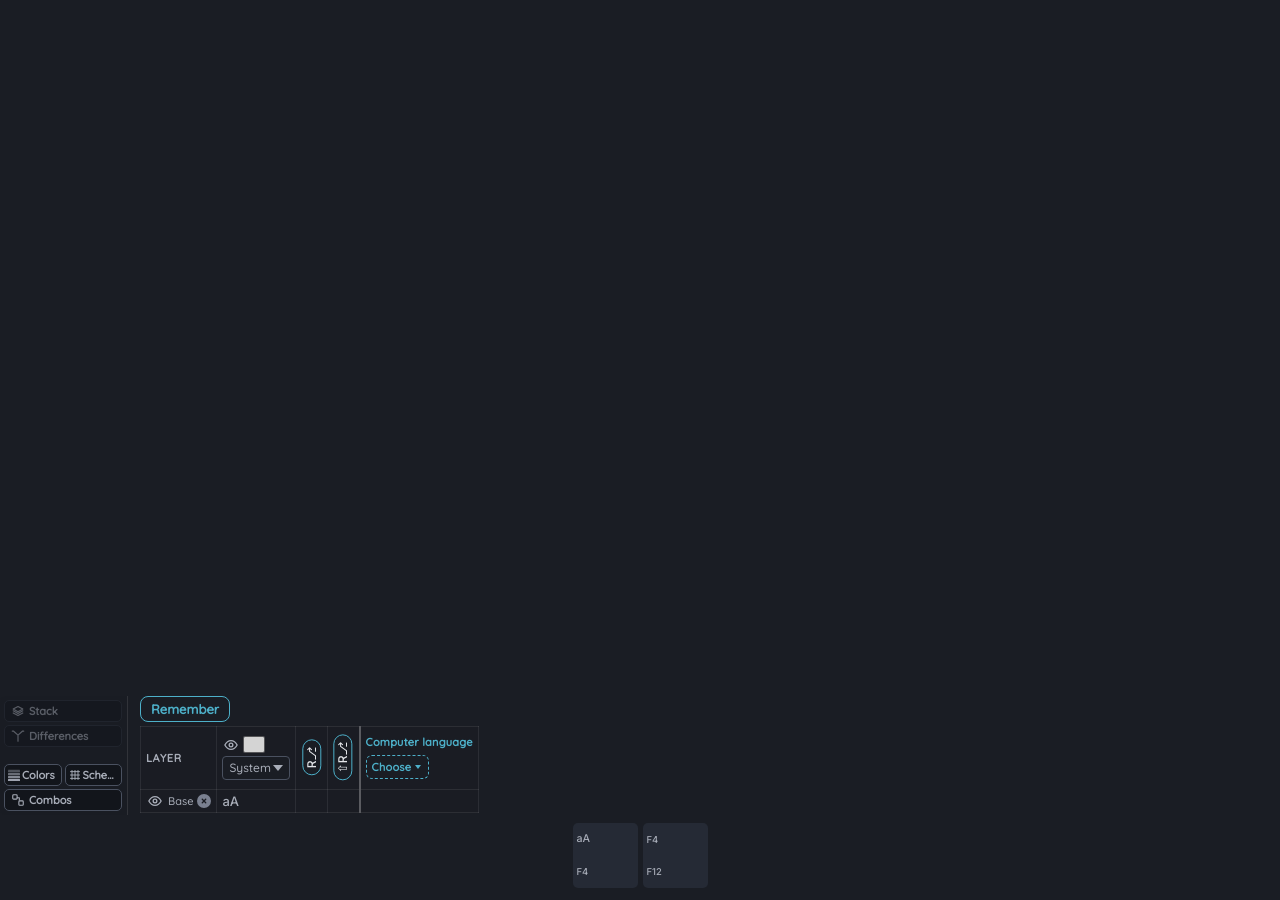
Keyboard layers › removes the last layer and keeps an active remaining layer
Hover over the element with class "host-legend-strip" at (239, 756), box [0,696,479,815]
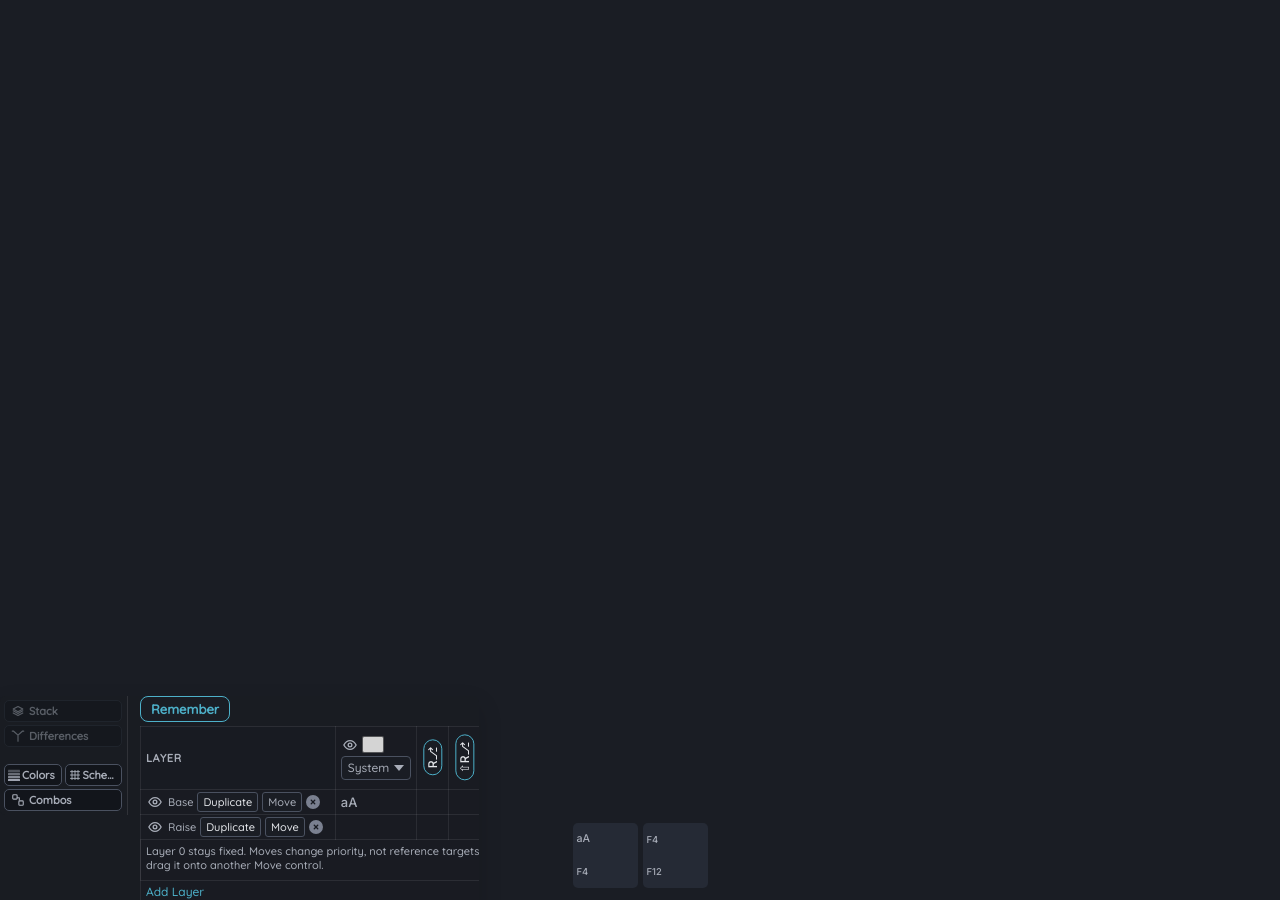
Click the 2nd button with class "delete". click: (316, 827)
box: [309,820,323,834]
(page scrolled)
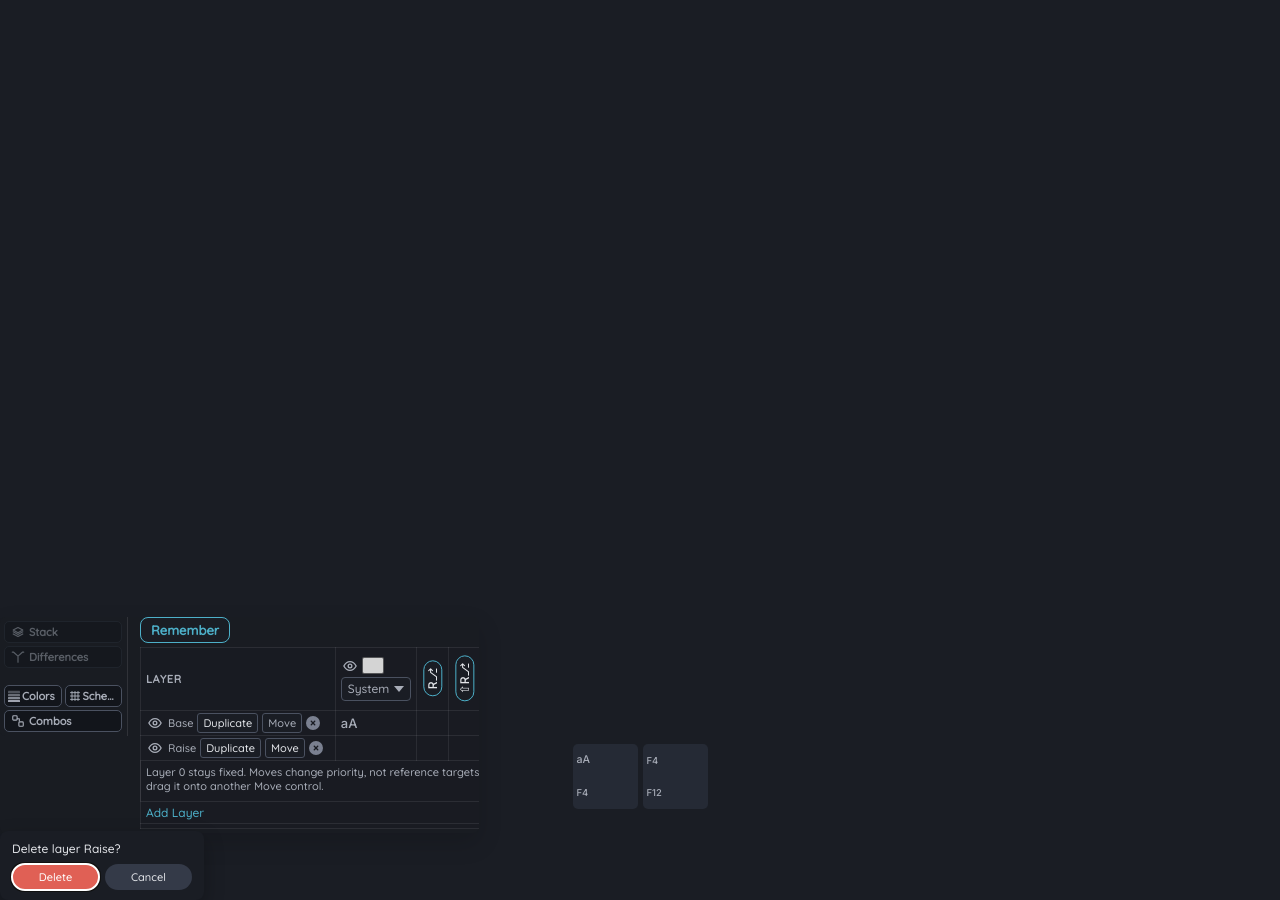
Click the button with class "confirm-delete". click: (56, 877)
box: [12,864,99,890]
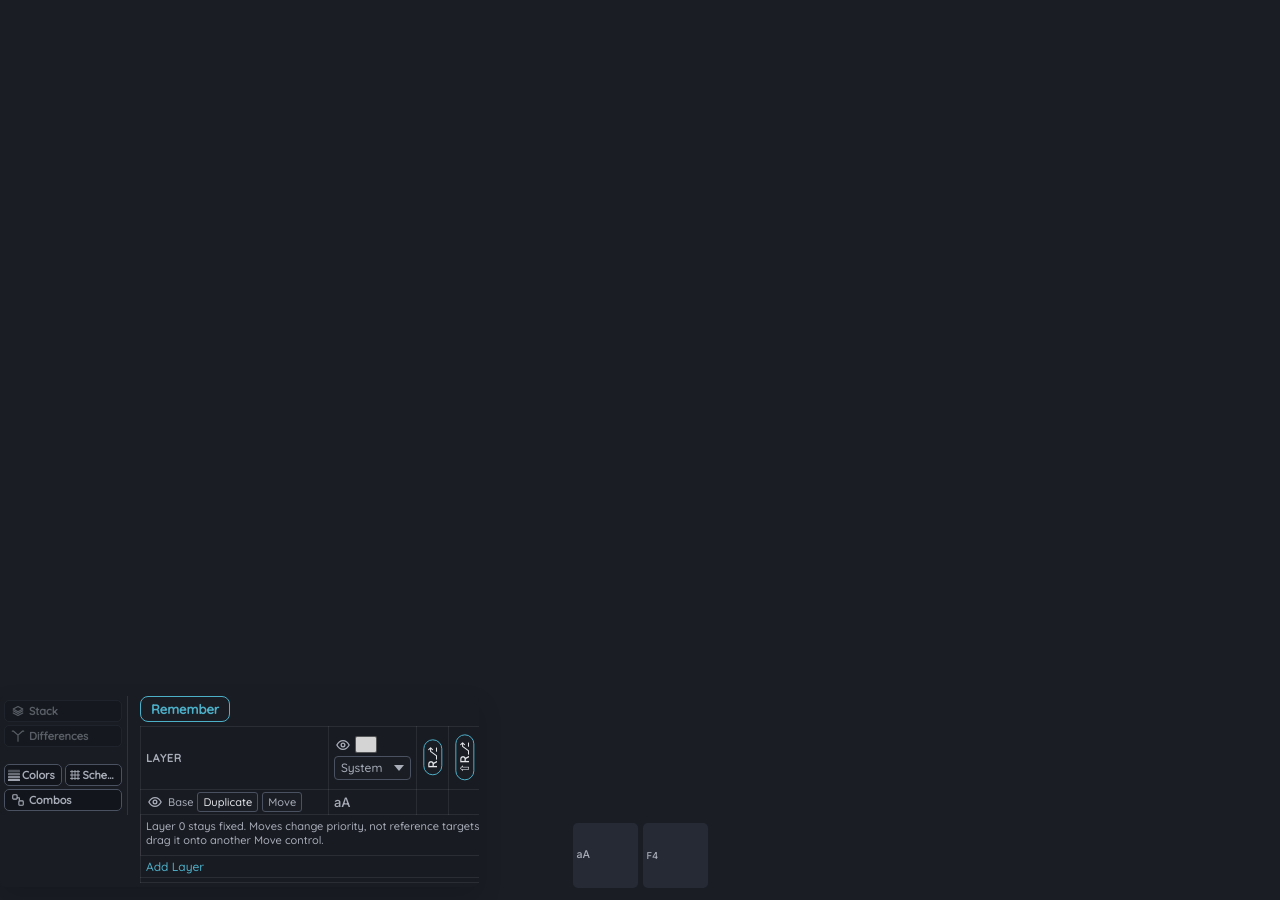
Expected: the number of elements with class "key" is 2, [572,823,638,888]; [642,823,708,888]
Result: the dialog is gone
